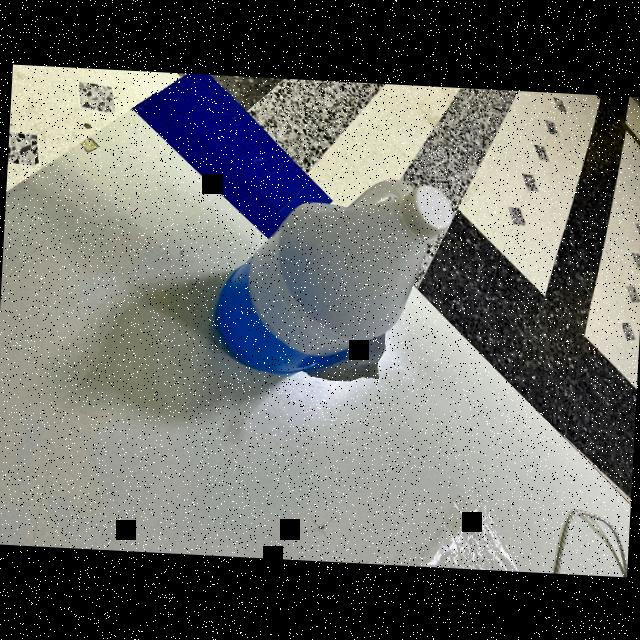chemical_plastic_gallon: (214, 165, 464, 388)
